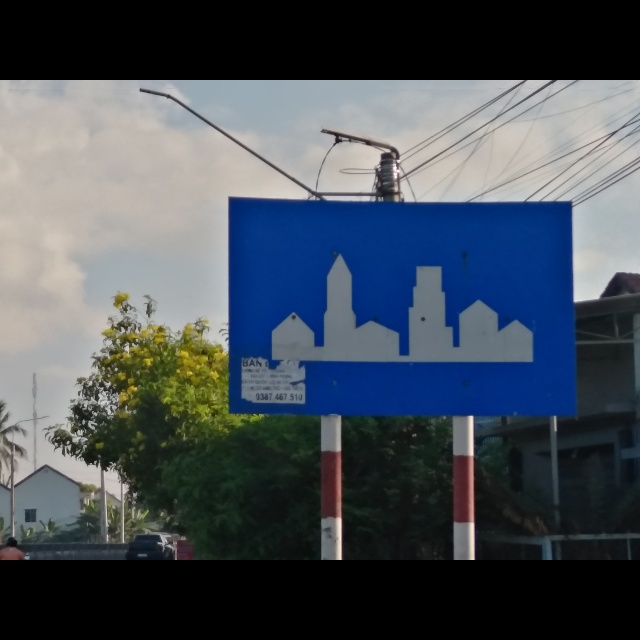Khu đông dân cư: (227, 193, 578, 418)
